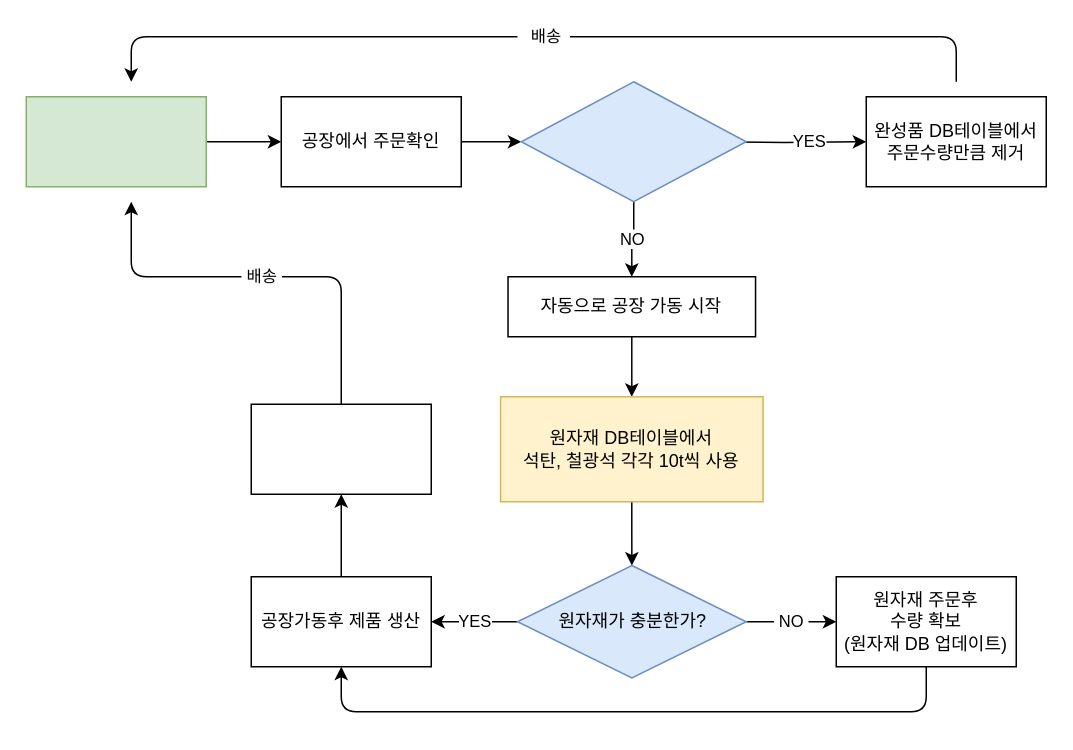
Some shapes in this 1073 by 750 pixel diagram are drawn without their labels. The shapes that lost their labels are listed below. From the top down, each one's centre as x and y in pixels, then its label:
point 115,141: 고객 주문
point 633,141: 주문한수량만큼 재고가있는가?
point 340,448: 완성품 DB테이블에서 생산 수량 추가
